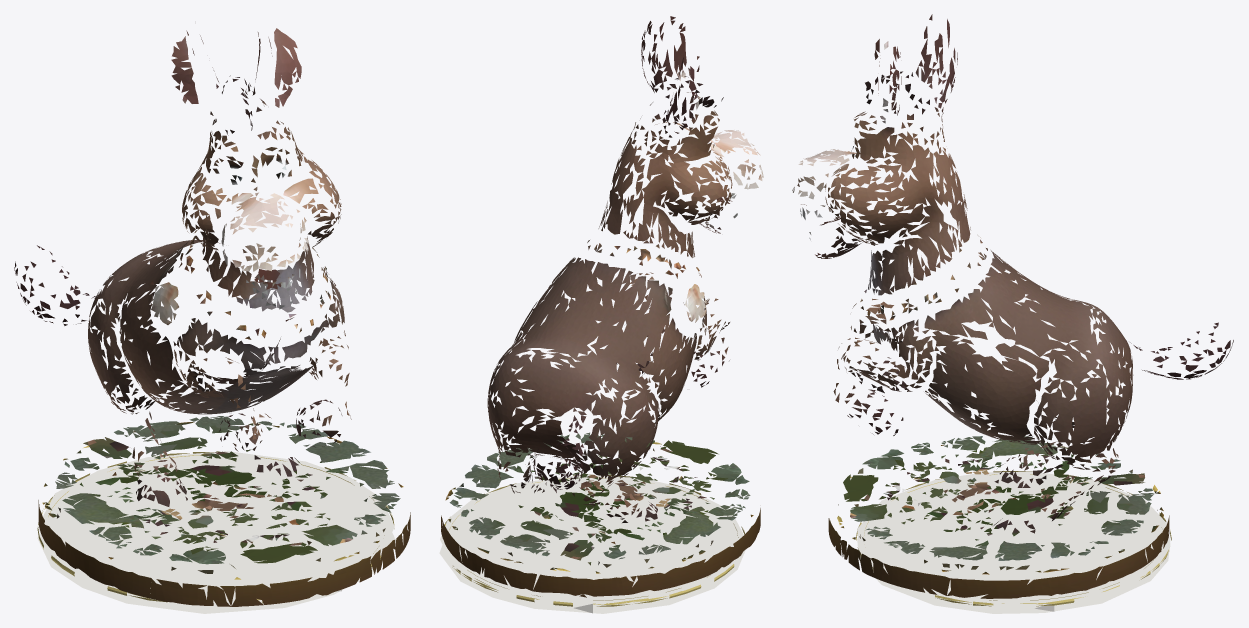
The model's file is knight-swamp-asinello-10k.glb.
3 views of the same model, side by side, from view 1: azimuth 30°, elevation 25°; view 2: azimuth 150°, elevation 25°; view 3: azimuth 270°, elevation 25° (orthographic). The views are drawn at different scales.
Visible parts, largest first — view 1: tmp4ittnv5t.ply, FactionPedestal, FactionTrimRing; view 2: tmp4ittnv5t.ply, FactionPedestal, FactionTrimRing; view 3: tmp4ittnv5t.ply, FactionPedestal, FactionTrimRing.
Boxes of the visible parts, x1=… form: tmp4ittnv5t.ply: x1=14, y1=28, x2=410, y2=606; FactionPedestal: x1=37, y1=451, x2=394, y2=613; FactionTrimRing: x1=37, y1=451, x2=394, y2=603; tmp4ittnv5t.ply: x1=441, y1=16, x2=763, y2=597; FactionPedestal: x1=439, y1=474, x2=745, y2=613; FactionTrimRing: x1=444, y1=474, x2=744, y2=606; tmp4ittnv5t.ply: x1=792, y1=14, x2=1233, y2=598; FactionPedestal: x1=857, y1=471, x2=1170, y2=613; FactionTrimRing: x1=856, y1=471, x2=1171, y2=606.
Bounding box in the file's own units: 0.757 × 1.33 × 1.04.
3 materials, 1 textured.
